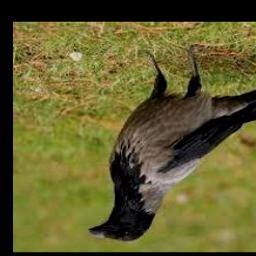Crow: (89, 50, 256, 242)
